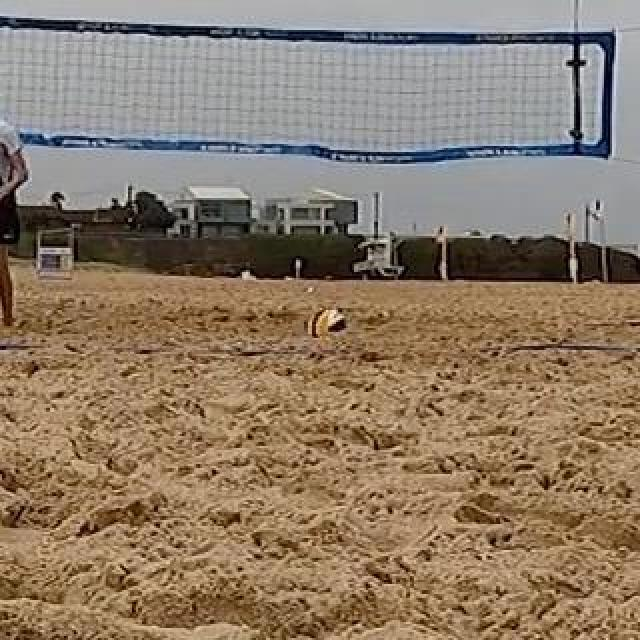volleyball: (308, 308, 350, 346)
